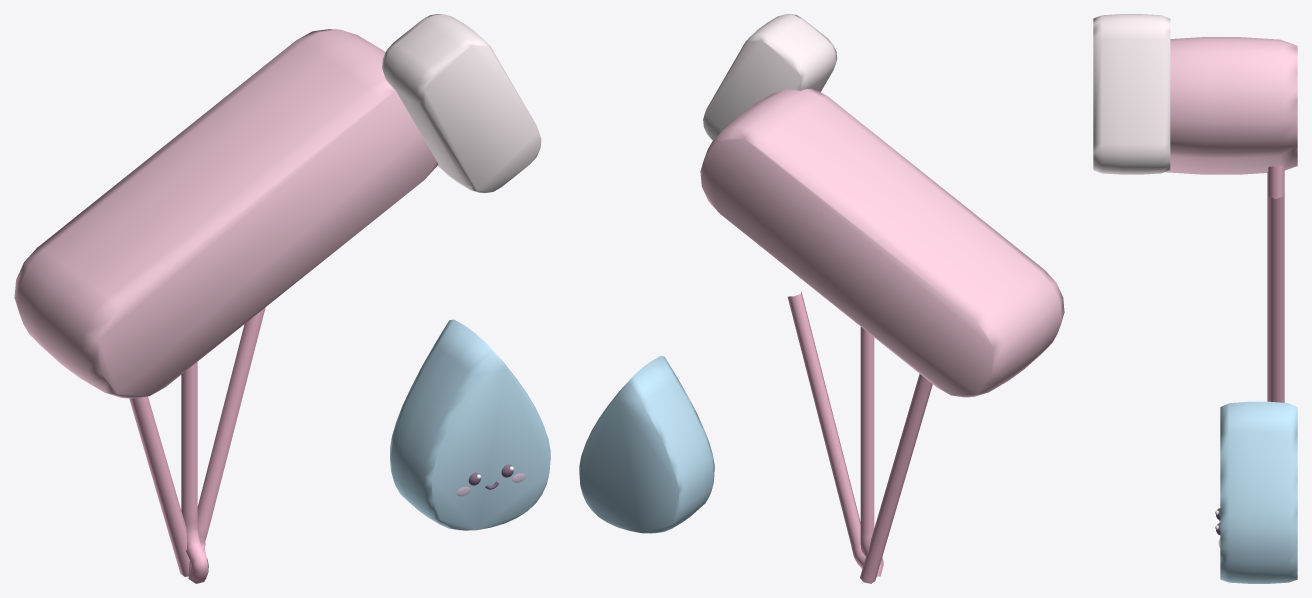
The model's file is decor_6_candy.glb.
3 views of the same model, side by side, from view 1: azimuth 30°, elevation 25°; view 2: azimuth 150°, elevation 25°; view 3: azimuth 270°, elevation 25° (orthographic). The views are drawn at different scales.
Parts seen in each view (by area): view 1: decor_6_candy; view 2: decor_6_candy; view 3: decor_6_candy.
Part boxes in pixels (x1,y1,x2,y2): decor_6_candy: (14, 14, 550, 583); decor_6_candy: (579, 14, 1064, 583); decor_6_candy: (1093, 14, 1297, 583).
Bounding box in the file's own units: 9.33 × 9.9 × 3.53.
